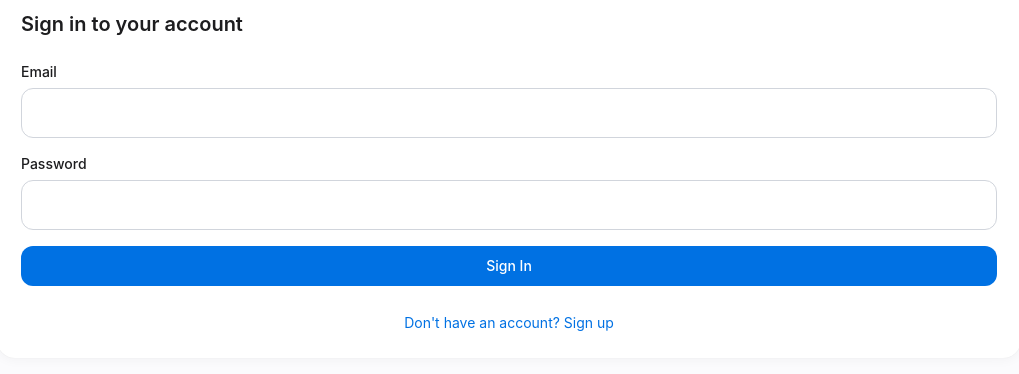
it: LoginPage › Login Form › shows validation error for short password
The width and height of the screenshot is (1019, 374).
Type "test@example.com" into the field labelled "Email".
click(509, 113); type("test@example.com")  # box [21,88,997,138]
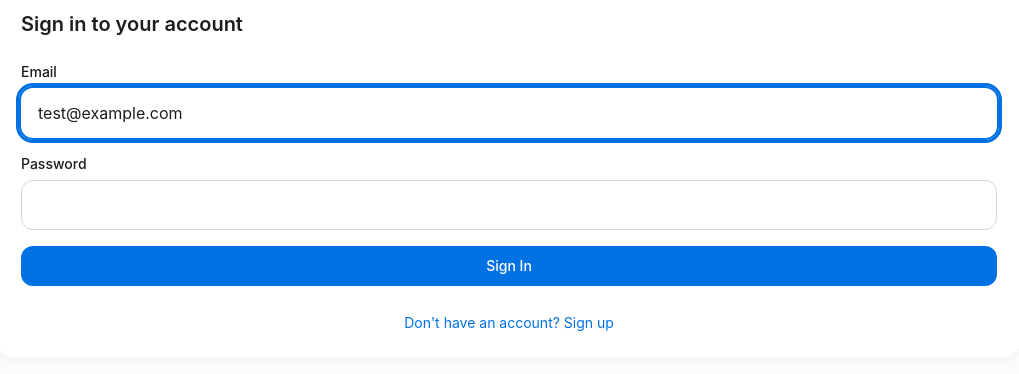
Type "123" into the password field labelled "Password".
click(509, 205); type("123")  # box [21,180,997,230]
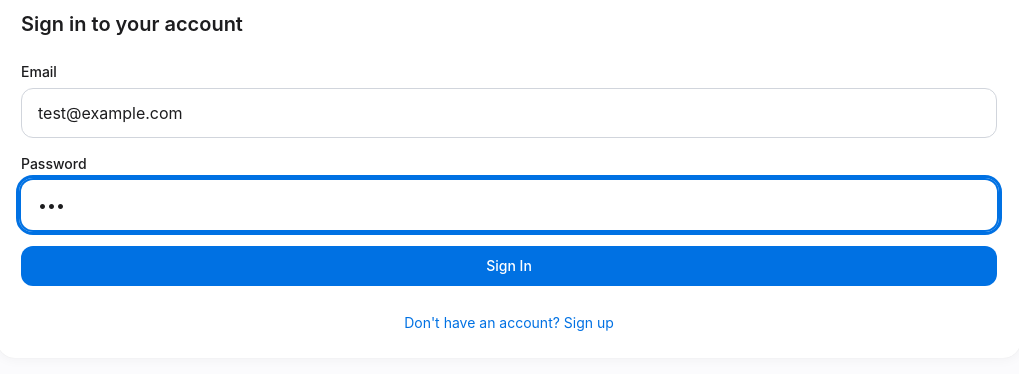
Click the button "Sign In".
click(509, 266)  # box [21,246,997,286]
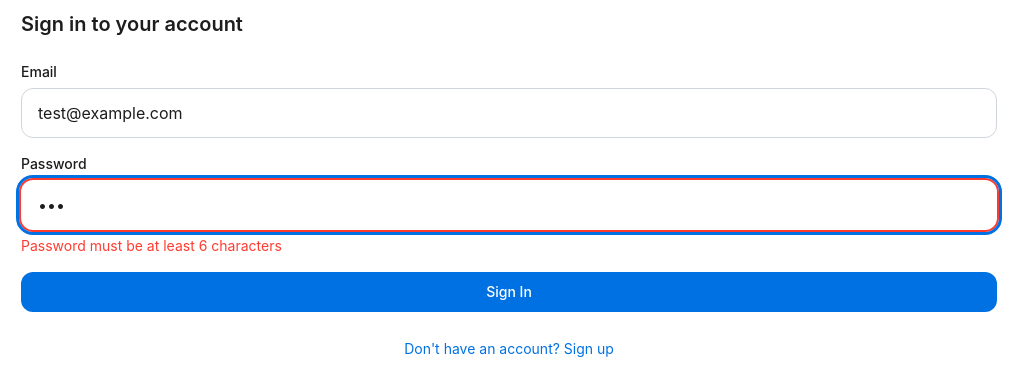
Check: the text "Password must be at least 6 characters" is shown, box [21,237,282,254]
